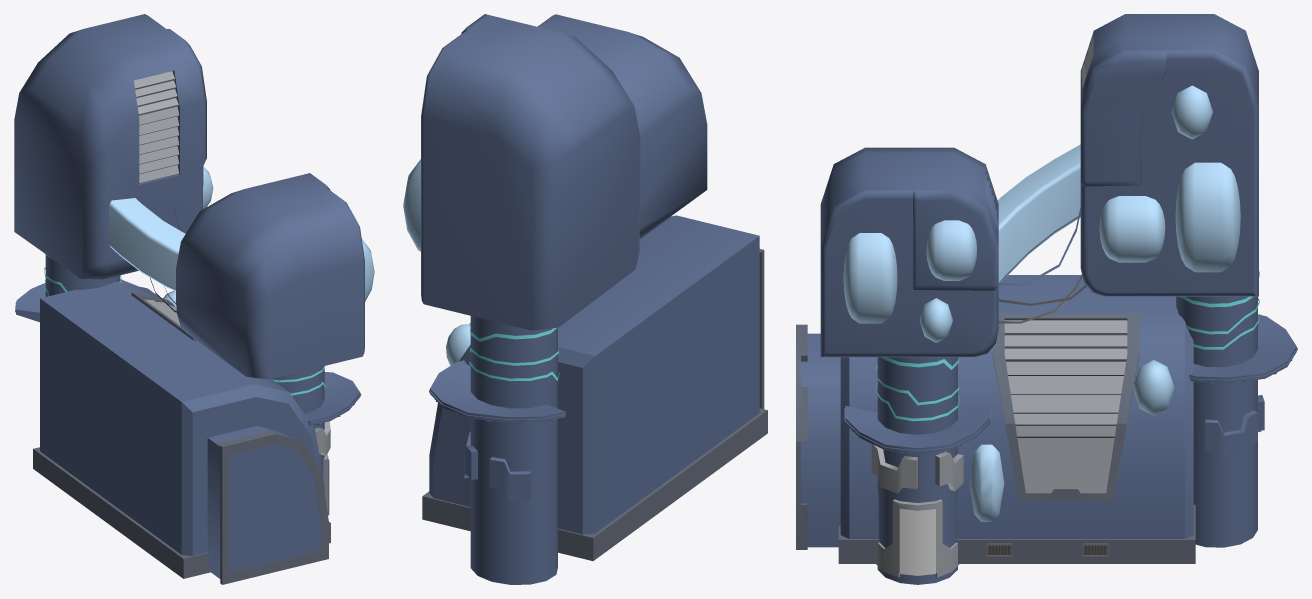
Rendered from West_Hotel_01.fbx.
3 renders of one model, left to right at view 1: azimuth 30°, elevation 25°; view 2: azimuth 150°, elevation 25°; view 3: azimuth 270°, elevation 25°, orthographic. The views are drawn at different scales.
Visible parts, largest first — view 1: West_Hotel_01; view 2: West_Hotel_01; view 3: West_Hotel_01.
Part boxes in pixels (x1=…): West_Hotel_01: x1=14, y1=14, x2=374, y2=584; West_Hotel_01: x1=403, y1=14, x2=767, y2=584; West_Hotel_01: x1=796, y1=14, x2=1297, y2=584.
Size of the model in its own units: 39.5 by 80.41 by 71.16.
